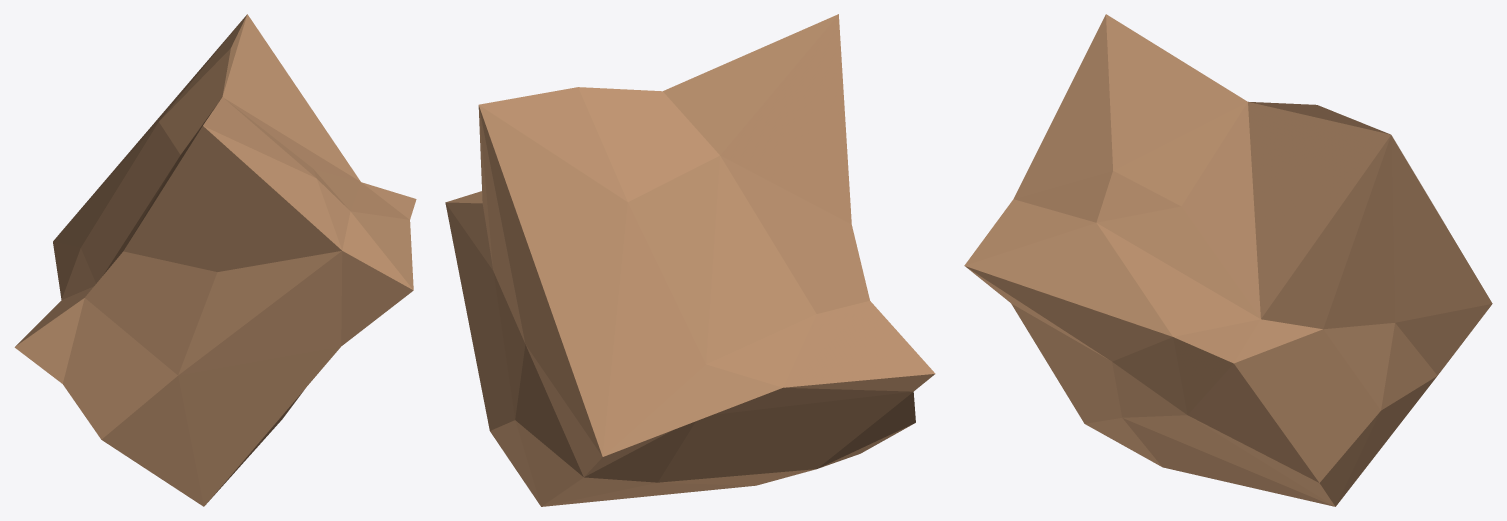
Rendered from Boulder_05_Chunky.fbx.
3 renders of one model, left to right at view 1: azimuth 30°, elevation 25°; view 2: azimuth 150°, elevation 25°; view 3: azimuth 270°, elevation 25°, orthographic. The views are drawn at different scales.
Parts seen in each view (by area): view 1: Boulder_05_Chunky; view 2: Boulder_05_Chunky; view 3: Boulder_05_Chunky.
Boxes of the visible parts, x1,y1,x2,y2 form: Boulder_05_Chunky: (14,14,416,506); Boulder_05_Chunky: (445,14,935,506); Boulder_05_Chunky: (964,14,1492,506).
Size of the model in its own units: 3.73 by 3.39 by 3.78.
